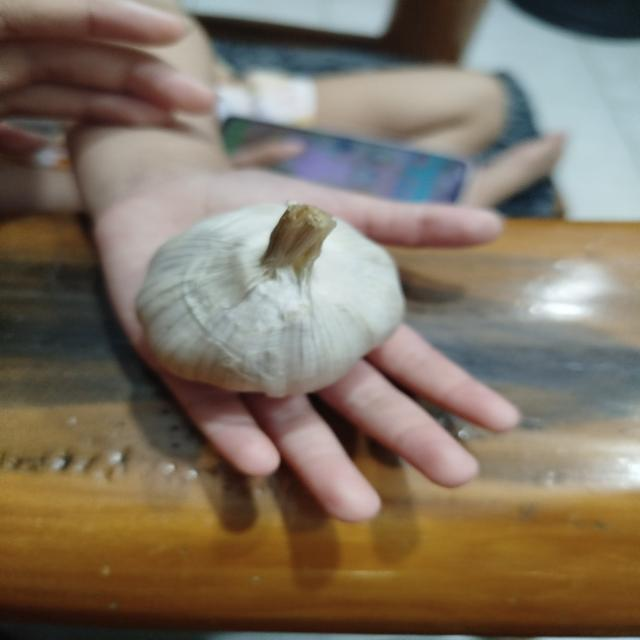garlic: (133, 201, 407, 398)
